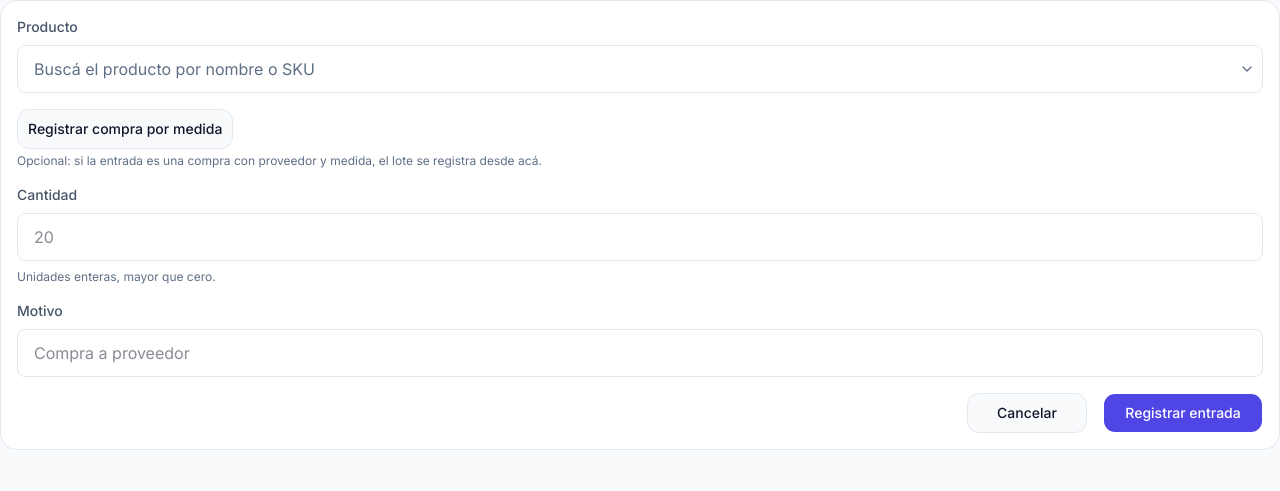
it: MovementEntryStockForm › blocks the submit when no product was chosen
In the field labelled "Cantidad": (640, 237) [17,213,1263,261], type "10"
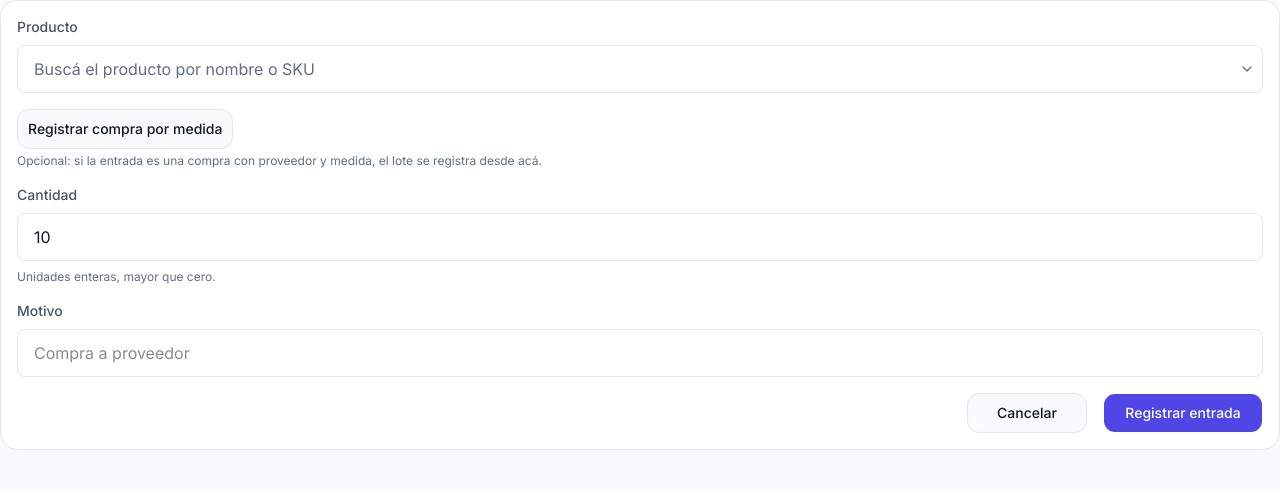
Click the button "Registrar entrada": (1183, 413) [1103,393,1263,433]
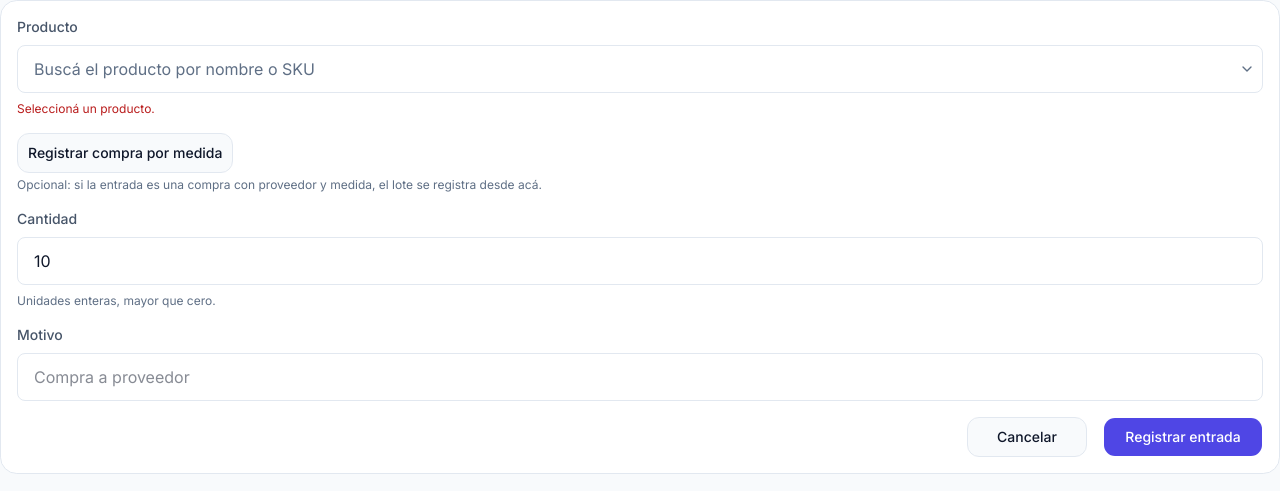
Check: the text "Seleccioná un producto." is shown, box [17,101,155,116]
